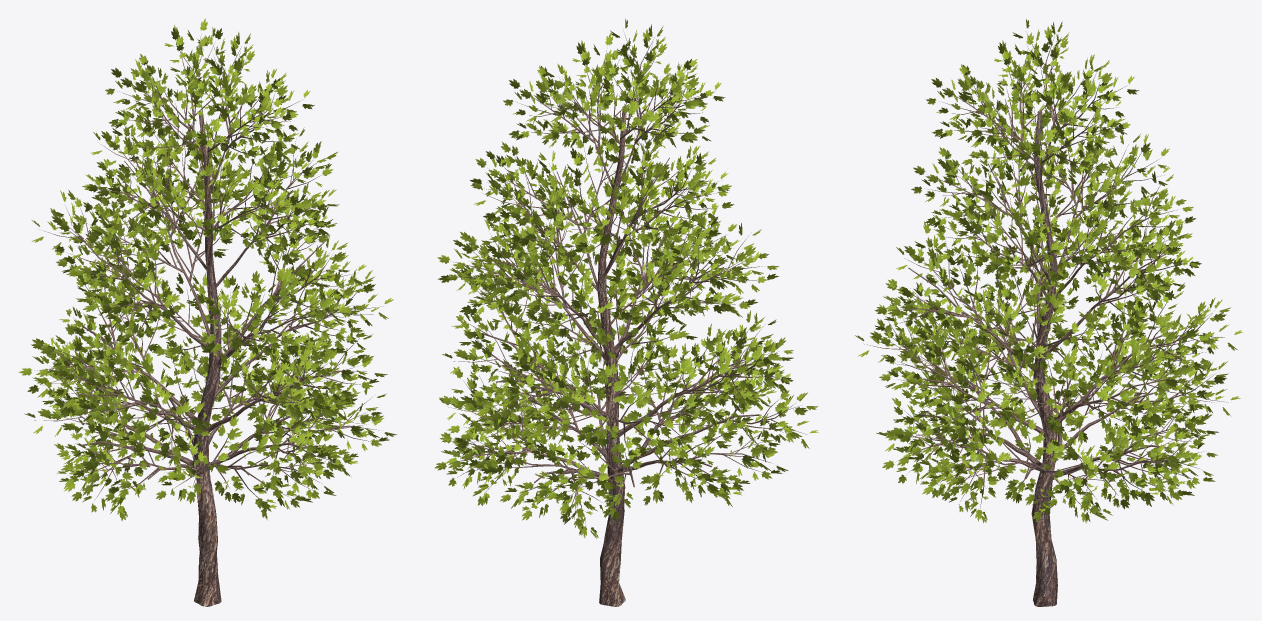
Rendered from Maple 01.fbx.
3 views of the same model, side by side, from view 1: azimuth 30°, elevation 25°; view 2: azimuth 150°, elevation 25°; view 3: azimuth 270°, elevation 25° (orthographic).
Parts seen in each view (by area): view 1: maple01; view 2: maple01; view 3: maple01.
Part boxes in pixels (<box>): maple01: <box>18,18,396,606</box>; maple01: <box>434,18,818,606</box>; maple01: <box>855,19,1242,606</box>.
Size of the model in its own units: 1349 by 2054 by 1333.
